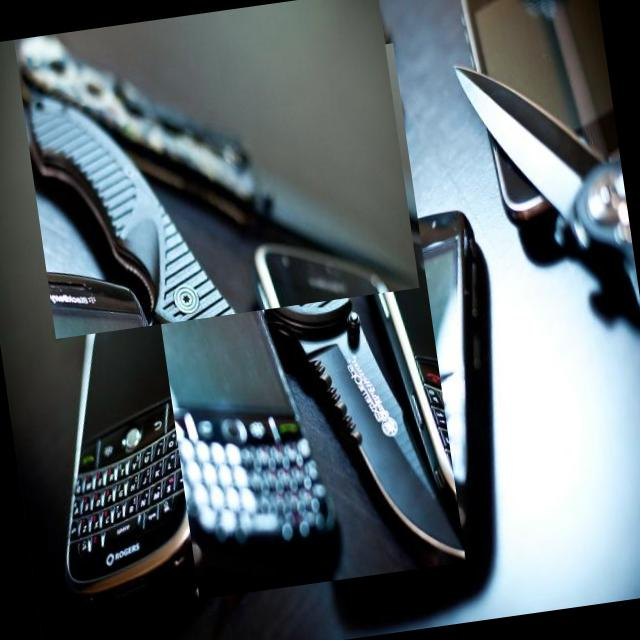Knife: (136, 78, 466, 563), (17, 35, 419, 289), (457, 66, 640, 308)
